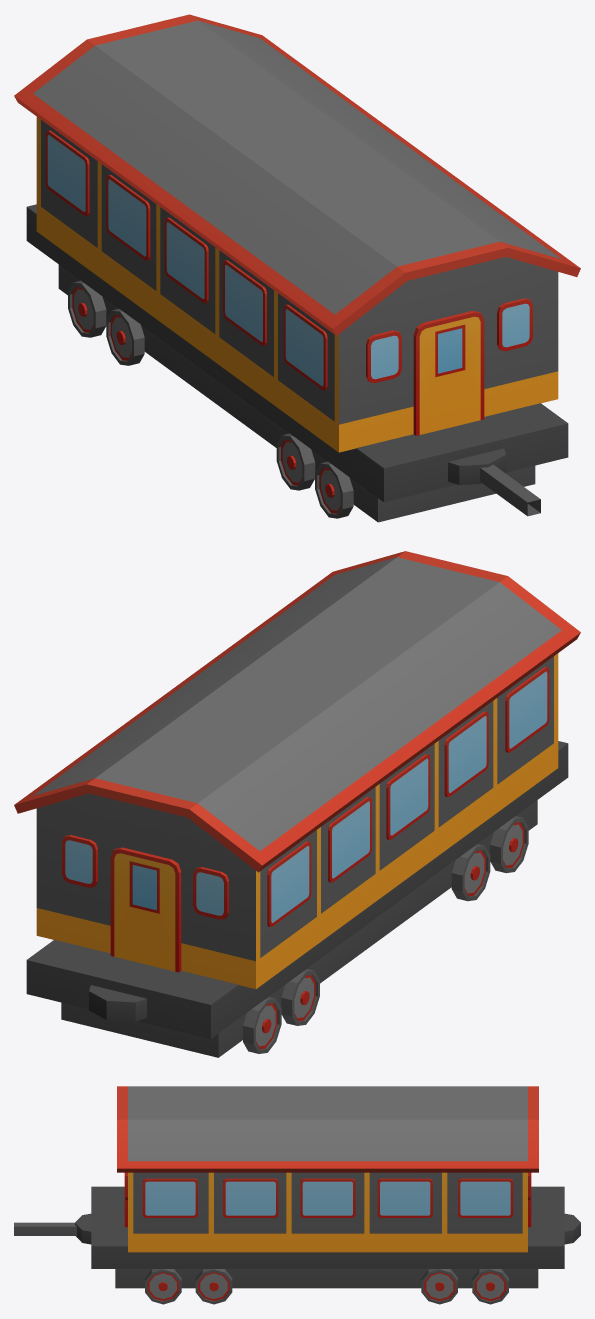
Rendered from passenger wagon.fbx.
3 views of the same model, one above another, from view 1: azimuth 30°, elevation 25°; view 2: azimuth 150°, elevation 25°; view 3: azimuth 270°, elevation 25° (orthographic). The views are drawn at different scales.
Visible parts, largest first — view 1: passenger wagon body, front wheels 2, front wheels 1, rear wheels 1, rear wheels 2, connecting device; view 2: passenger wagon body, front wheels 2, front wheels 1, rear wheels 2, rear wheels 1; view 3: passenger wagon body, front wheels 2, front wheels 1, rear wheels 2, rear wheels 1, connecting device.
Part boxes in pixels (<box>): passenger wagon body: <box>14,14,580,522</box>; front wheels 2: <box>276,433,315,490</box>; front wheels 1: <box>315,461,353,518</box>; rear wheels 1: <box>106,309,144,365</box>; rear wheels 2: <box>68,280,106,337</box>; connecting device: <box>480,464,540,516</box>; passenger wagon body: <box>14,551,580,1057</box>; front wheels 2: <box>451,844,490,901</box>; front wheels 1: <box>490,816,528,873</box>; rear wheels 2: <box>243,997,281,1053</box>; rear wheels 1: <box>281,969,319,1025</box>; passenger wagon body: <box>75,1086,580,1288</box>; front wheels 2: <box>195,1269,232,1304</box>; front wheels 1: <box>145,1269,181,1304</box>; rear wheels 2: <box>472,1269,508,1304</box>; rear wheels 1: <box>421,1269,457,1304</box>; connecting device: <box>14,1222,76,1235</box>.
Bounding box in the file's own units: 460 × 460 × 1373.
